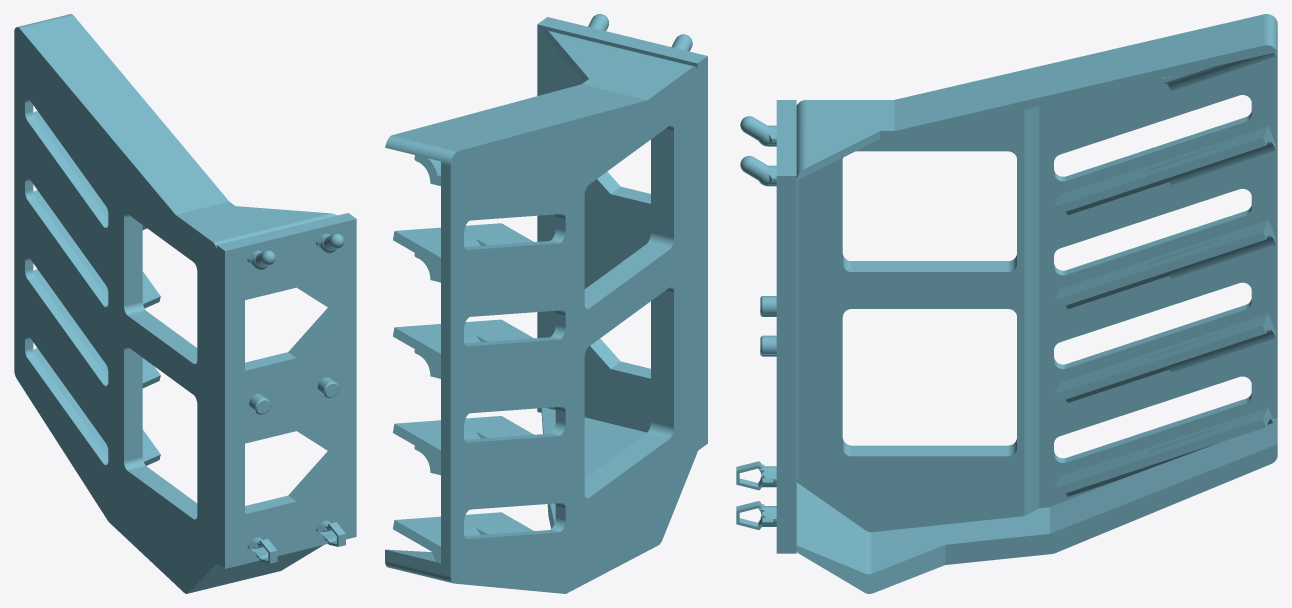
Rendered from part-tweezers__inward20-v5-A4p0-guideR6-p28__right-cheek__fit-pf02c9-hoop5__installed.glb.
3 renders of one model, left to right at view 1: azimuth 30°, elevation 25°; view 2: azimuth 150°, elevation 25°; view 3: azimuth 270°, elevation 25°, orthographic. The views are drawn at different scales.
Parts seen in each view (by area): view 1: part-tweezers__inward20-v5-A4p0-guideR6-p28__right-cheek__fi; view 2: part-tweezers__inward20-v5-A4p0-guideR6-p28__right-cheek__fi; view 3: part-tweezers__inward20-v5-A4p0-guideR6-p28__right-cheek__fi.
Boxes of the visible parts, <box> form: part-tweezers__inward20-v5-A4p0-guideR6-p28__right-cheek__fi: <box>14,14,356,593</box>; part-tweezers__inward20-v5-A4p0-guideR6-p28__right-cheek__fi: <box>385,14,707,593</box>; part-tweezers__inward20-v5-A4p0-guideR6-p28__right-cheek__fi: <box>736,14,1277,593</box>.
Size of the model in its own units: 0.0488 by 0.1573 by 0.1464.
